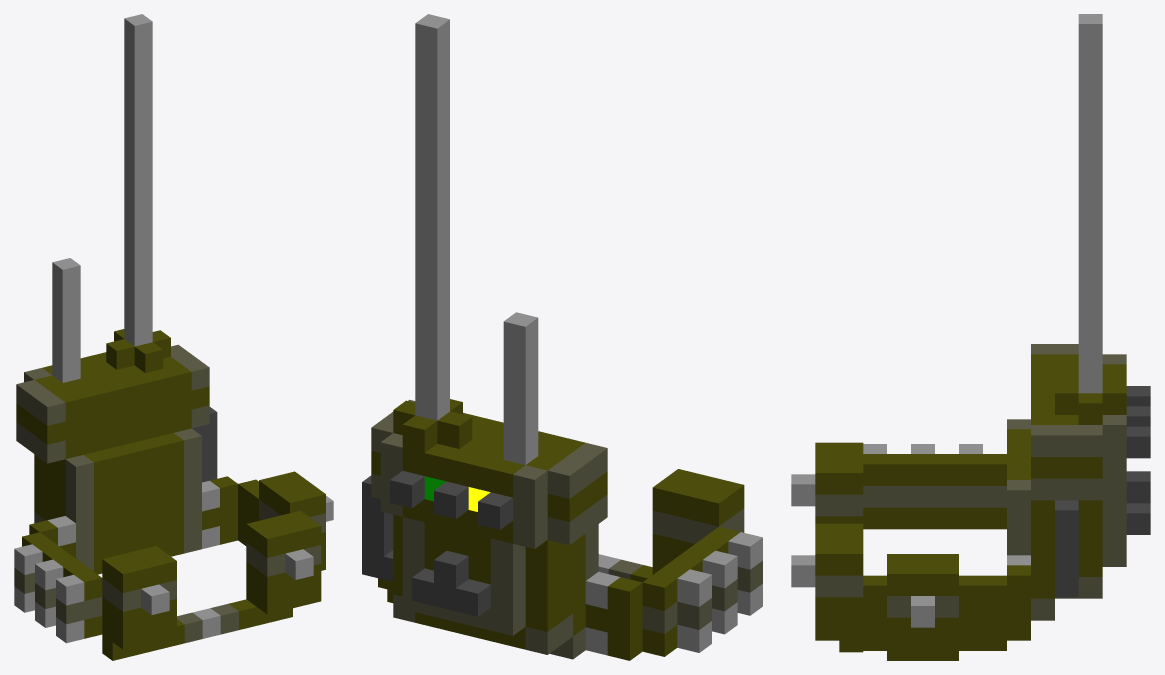
The model's file is accessories_clothes_radio.glb.
3 renders of one model, left to right at view 1: azimuth 30°, elevation 25°; view 2: azimuth 150°, elevation 25°; view 3: azimuth 270°, elevation 25°, orthographic. The views are drawn at different scales.
Visible parts, largest first — view 1: model_0.001, model_0; view 2: model_0.001, model_0; view 3: model_0.001, model_0.
Boxes of the visible parts, x1,y1,x2,y2 form: model_0.001: [16, 14, 217, 574]; model_0: [14, 471, 333, 660]; model_0.001: [362, 14, 607, 659]; model_0: [378, 469, 762, 660]; model_0.001: [1007, 14, 1150, 620]; model_0: [791, 442, 1030, 660].
Size of the model in its own units: 16 by 28 by 15.
